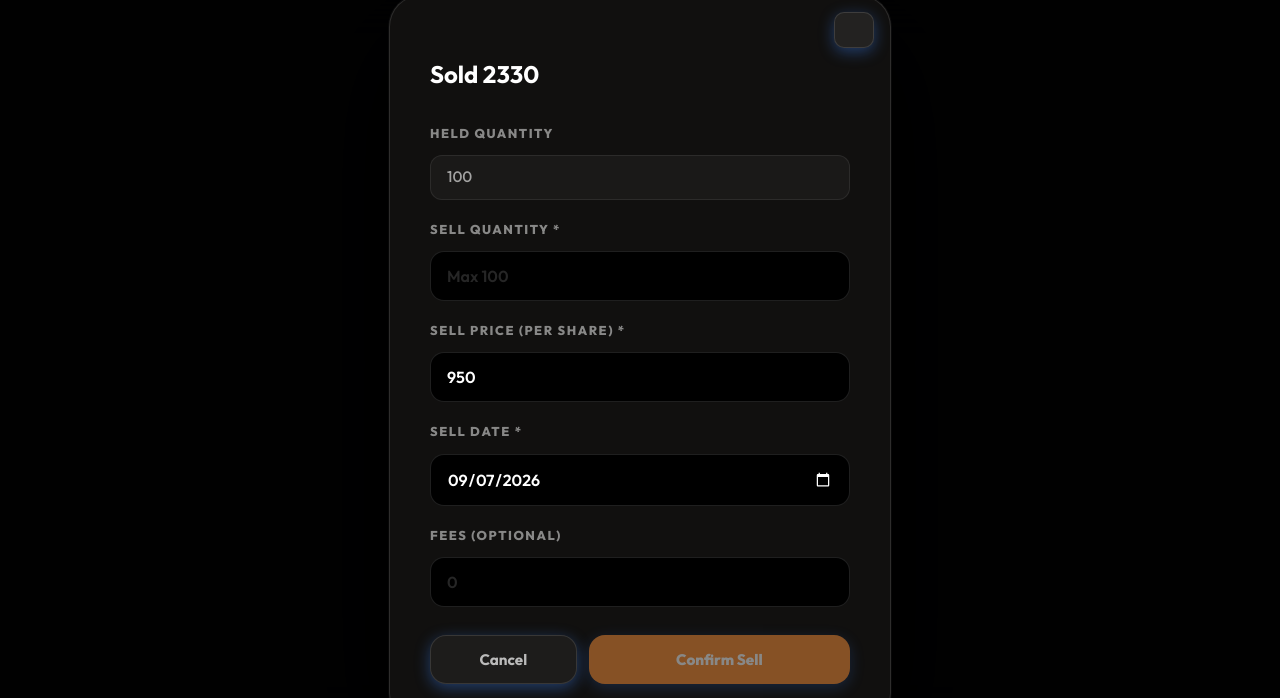
SellAssetModal › shows error when sell price is invalid (negative)
Type "5" into the number field with placeholder "Max 100".
click(640, 276); type("5")  # box [430, 251, 850, 301]
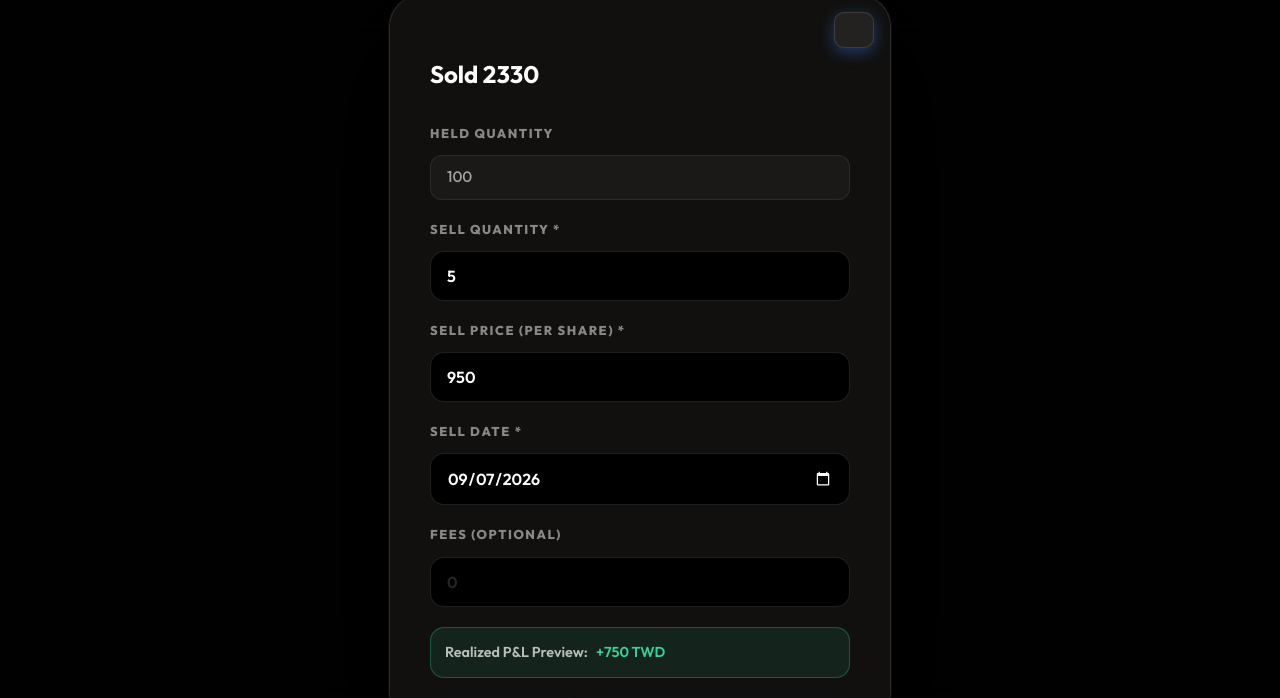
// Override the pre-filled price with an invalid negative value
Replace the text in the number field with placeholder "Price per unit" below "Sell Price (per share)" with "-10" at (640, 377), box [430, 352, 850, 402]
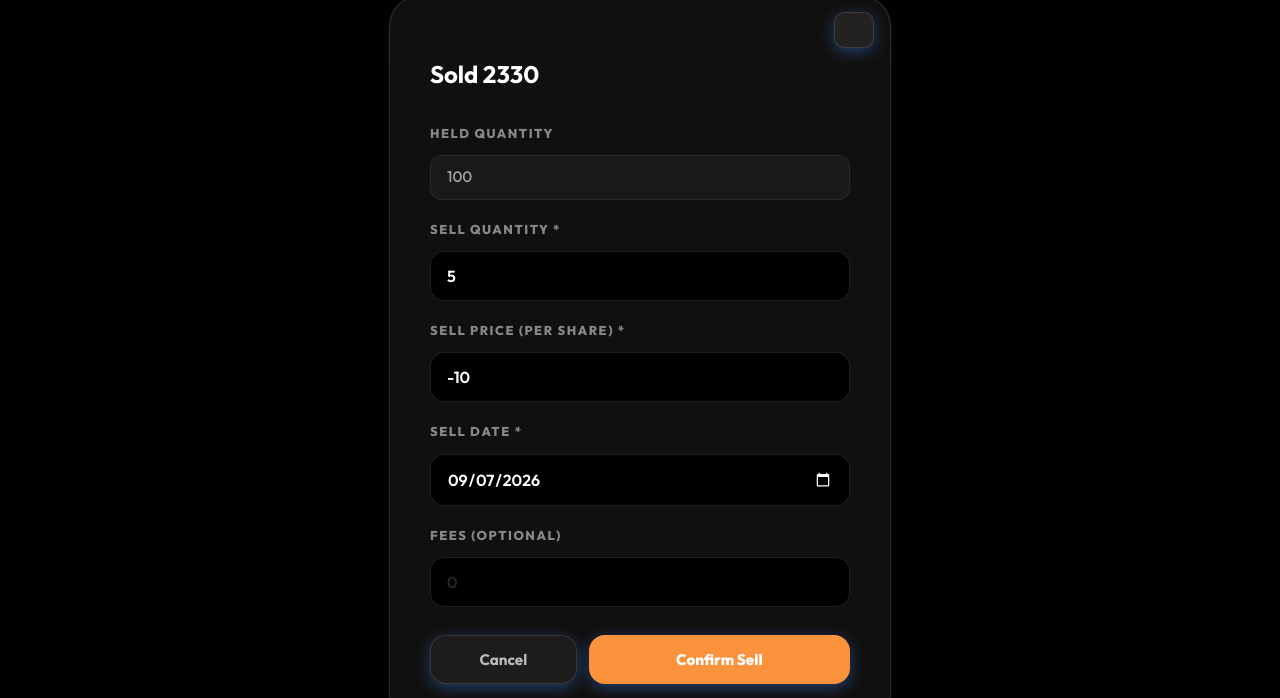
Click the button "Confirm Sell".
click(719, 659)  # box [589, 635, 850, 684]
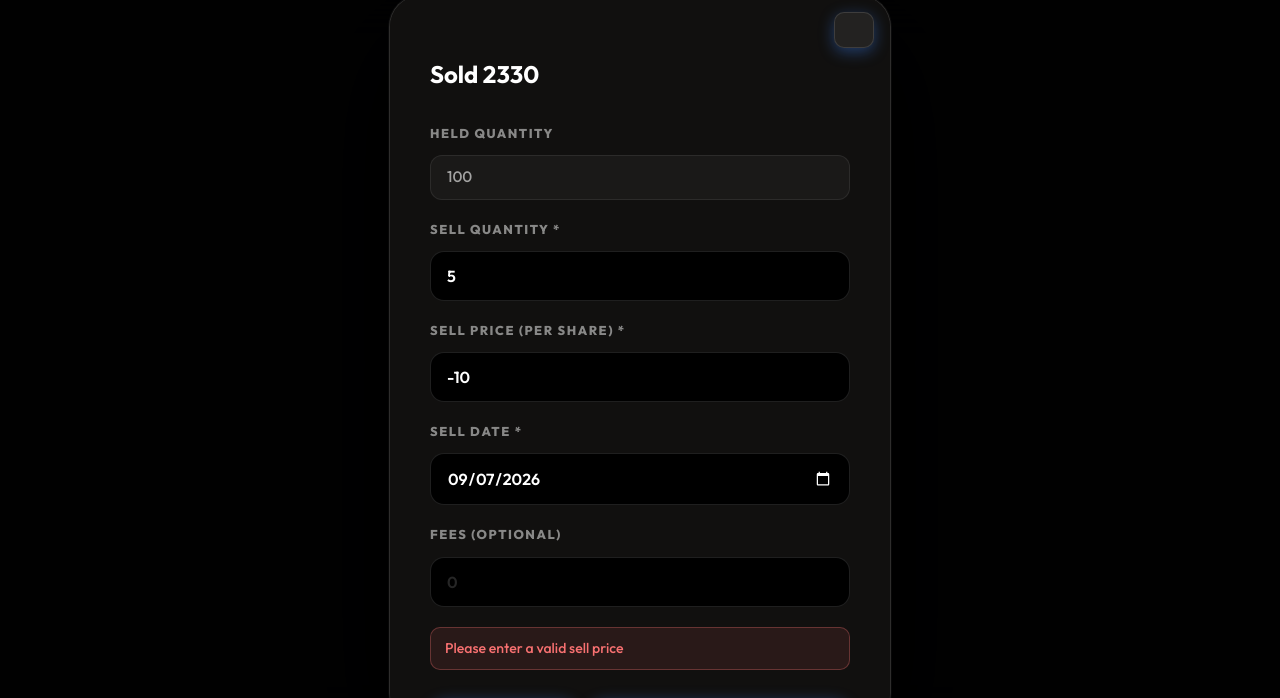
Expected: the text "Please enter a valid sell price" is shown, [430, 627, 850, 670]
